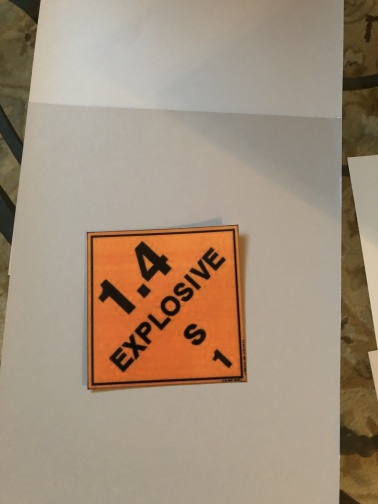Explosive: (86, 229, 244, 379)
